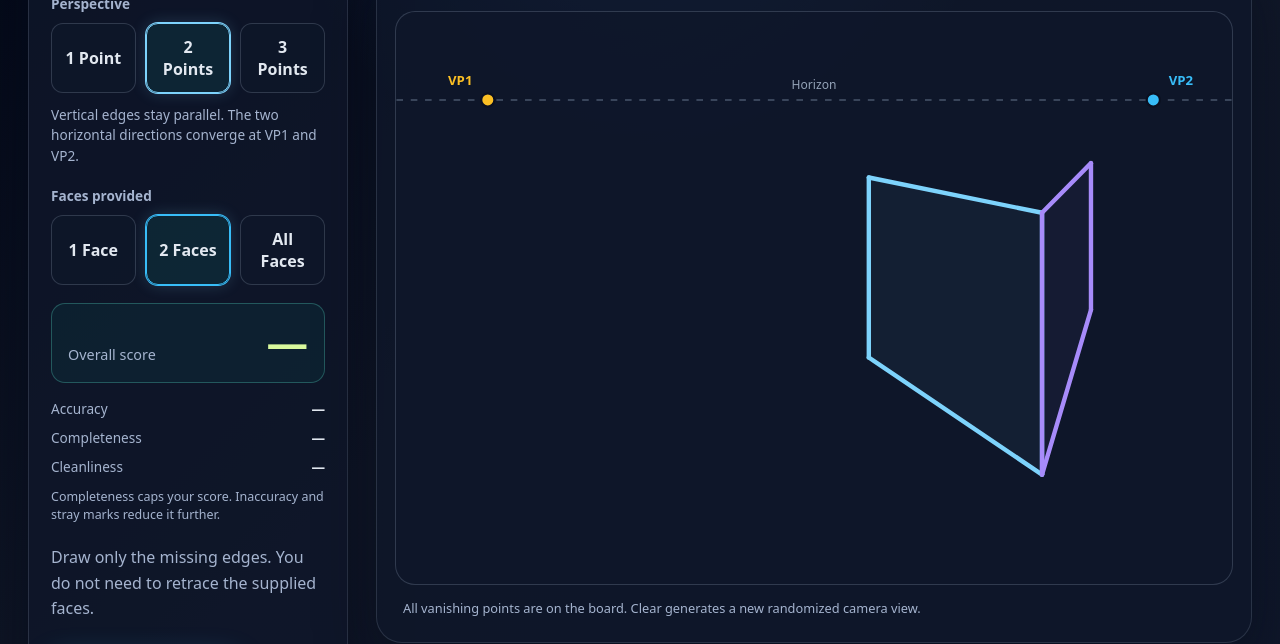
Scenario: switching challenges clears old strokes instead of scoring them against the new shape
The width and height of the screenshot is (1280, 644).
(page scrolled)
Press the mouse on the drawing named "Drawing canvas" at point(814, 298), box [396,12,1232,584]
Press the mouse on the drawing named "Drawing canvas" at point(814, 298), box [396,12,1232,584]
Click the button "1 face" at point(93, 250), box [51,215,136,285]
(page scrolled)
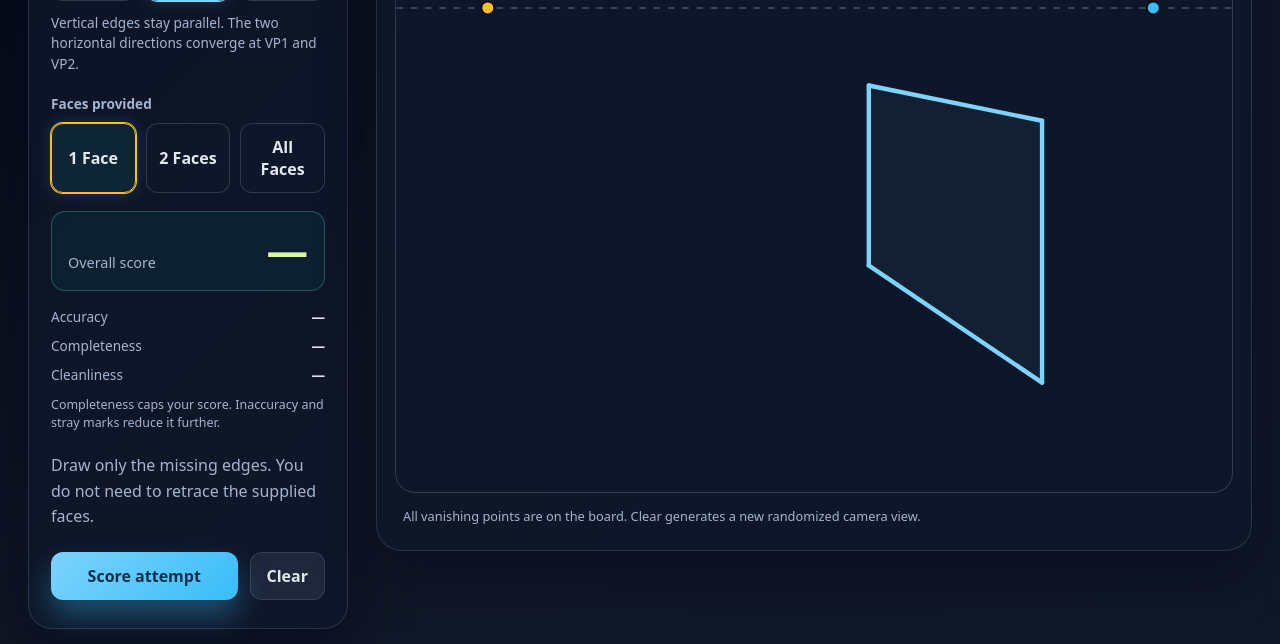
Click the button "Score attempt" at point(144, 576), box [51,552,238,600]
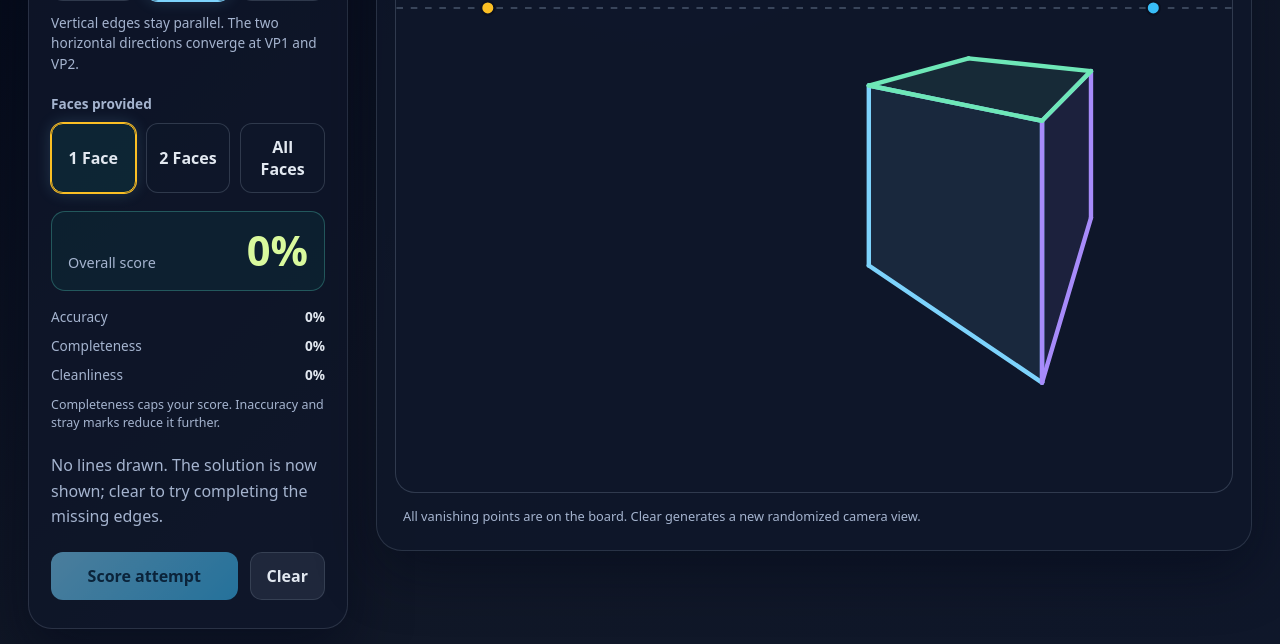
Expected: the text named "Overall score" reads "0%", [247,222,308,278]
